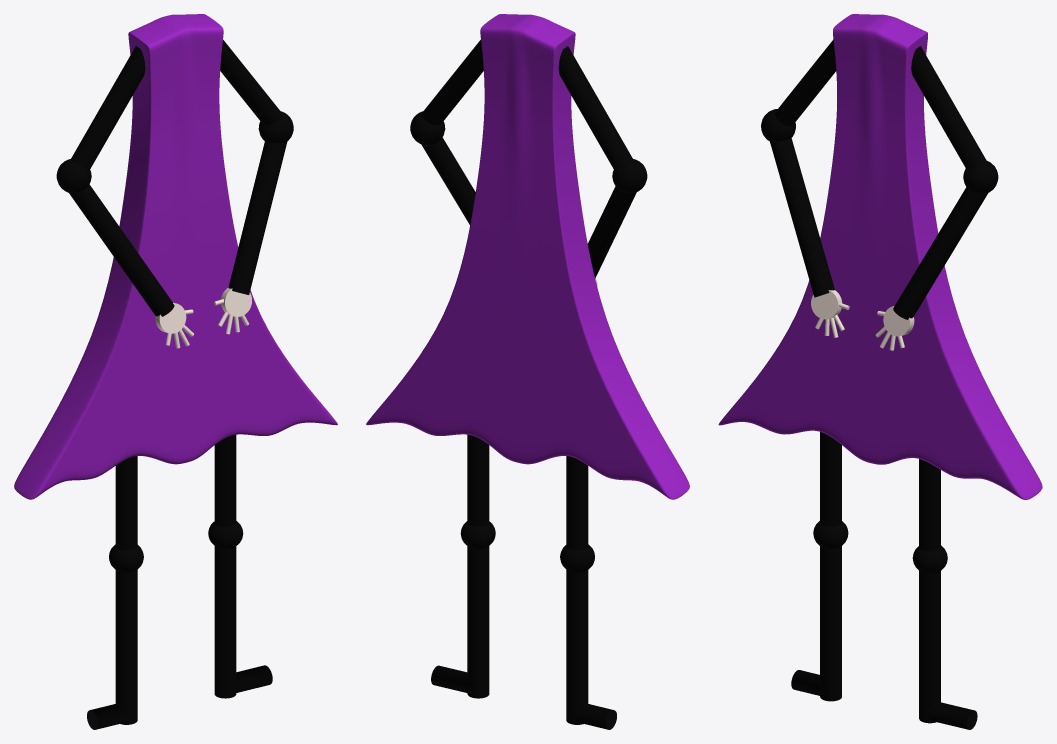
File: FemaleBody.dae
3 views of the same model, side by side, from view 1: azimuth 30°, elevation 25°; view 2: azimuth 150°, elevation 25°; view 3: azimuth 330°, elevation 25° (orthographic).
Parts seen in each view (by area): view 1: femaleBody, LeftForeArm, leftForeLeg, RightForeArm, rightForeLeg, RightUpperArm, rightUpperLeg, LeftUpperLeg, LeftUpperArm, rightUpperArmSphere, rightFoot, leftFoot (+5 smaller); view 2: femaleBody, leftForeLeg, rightForeLeg, RightUpperArm, rightUpperLeg, LeftUpperLeg, LeftUpperArm, RightForeArm, LeftForeArm, rightUpperArmSphere, rightFoot, leftFoot (+3 smaller); view 3: femaleBody, RightForeArm, rightForeLeg, LeftForeArm, leftForeLeg, LeftUpperArm, rightUpperLeg, RightUpperArm, LeftUpperLeg, leftFoot, LeftUpperArmSphere, rightUpperLegSphere (+5 smaller).
Boxes of the visible parts, box(x1,y1,x2,y2) form: femaleBody: box(14, 14, 337, 499); LeftForeArm: box(228, 141, 287, 294); leftForeLeg: box(214, 546, 236, 698); RightForeArm: box(69, 184, 174, 316); rightForeLeg: box(115, 570, 137, 724); RightUpperArm: box(71, 46, 145, 169); rightUpperLeg: box(115, 456, 137, 550); LeftUpperLeg: box(214, 434, 236, 527); LeftUpperArm: box(220, 39, 282, 125); rightUpperArmSphere: box(56, 159, 91, 193); rightFoot: box(87, 704, 135, 729); leftFoot: box(234, 665, 272, 692); femaleBody: box(366, 14, 689, 499); leftForeLeg: box(467, 546, 489, 698); rightForeLeg: box(566, 570, 588, 724); RightUpperArm: box(558, 46, 632, 169); rightUpperLeg: box(566, 456, 588, 550); LeftUpperLeg: box(467, 434, 489, 527); LeftUpperArm: box(421, 39, 483, 125); RightForeArm: box(587, 186, 636, 278); LeftForeArm: box(421, 137, 475, 225); rightUpperArmSphere: box(612, 159, 647, 193); rightFoot: box(568, 704, 616, 729); leftFoot: box(431, 665, 469, 692); femaleBody: box(718, 14, 1042, 499); RightForeArm: box(770, 138, 834, 297); rightForeLeg: box(820, 546, 841, 701); LeftForeArm: box(893, 187, 987, 319); leftForeLeg: box(919, 570, 940, 723); LeftUpperArm: box(911, 46, 986, 168); rightUpperLeg: box(820, 432, 841, 526); RightUpperArm: box(775, 39, 836, 125); LeftUpperLeg: box(919, 459, 940, 551); leftFoot: box(928, 702, 977, 729); LeftUpperArmSphere: box(963, 161, 998, 193); rightUpperLegSphere: box(813, 521, 848, 548).
Bounding box in the file's own units: 163 × 345 × 36.47.
